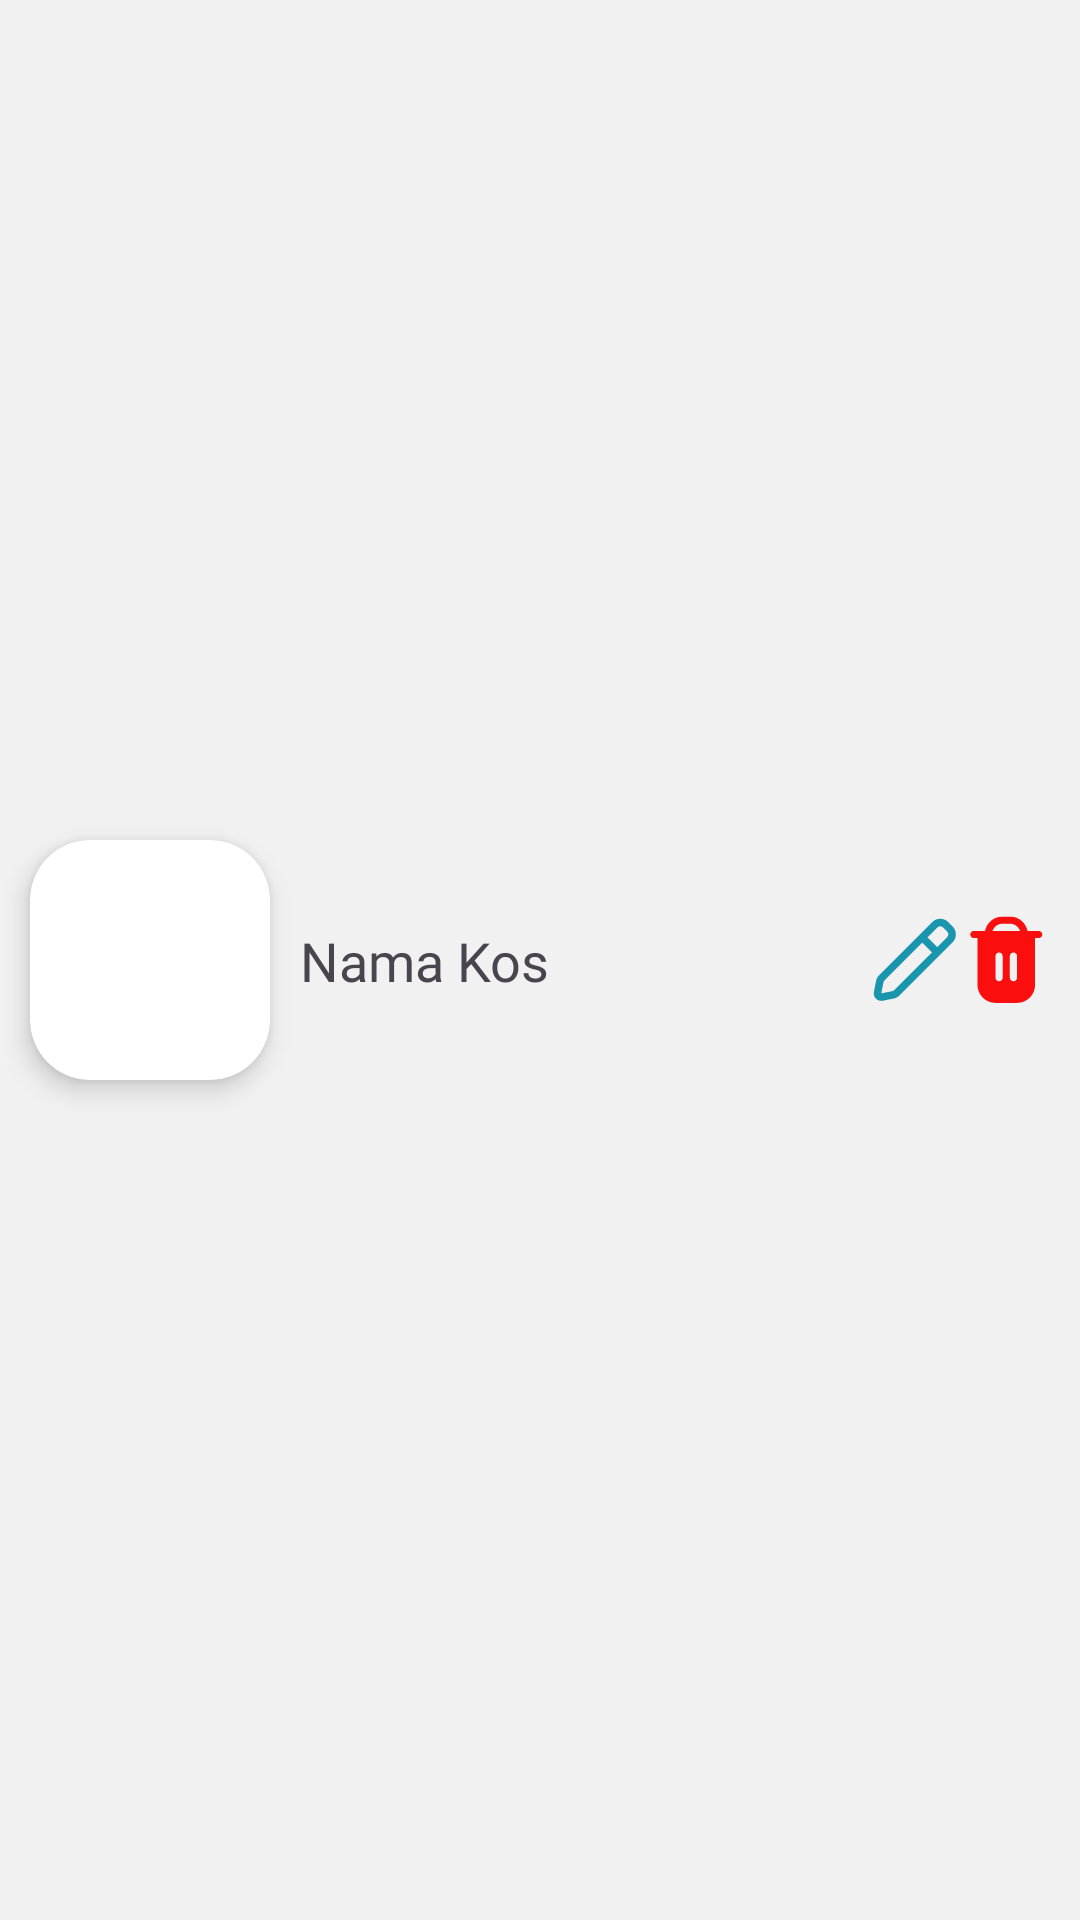

Named icons in this screenshot (1080px x 1920px) and their bounding boxes, (x1, y1, x2, y2):
edit: (873, 918, 956, 1001)
trash: (970, 916, 1043, 1003)
